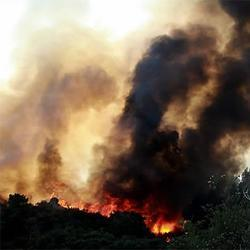fire: (79, 200, 123, 213), (151, 216, 174, 235)
